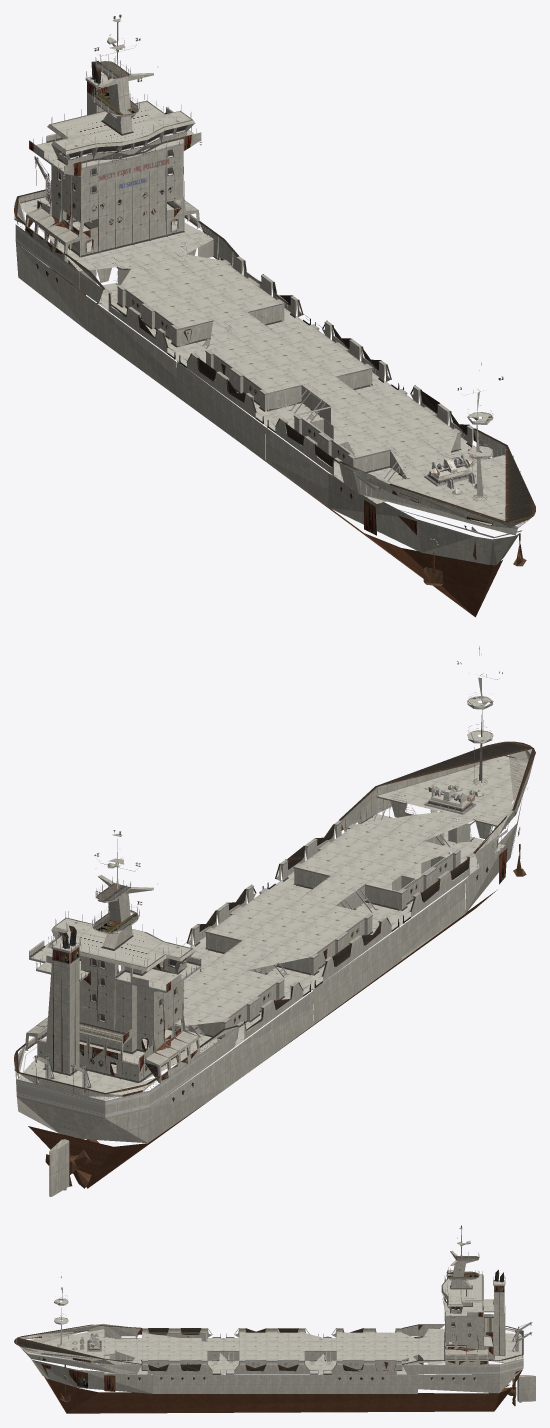
File: cargo_ship_map.glb
3 views of the same model, one above another, from view 1: azimuth 30°, elevation 25°; view 2: azimuth 150°, elevation 25°; view 3: azimuth 270°, elevation 25° (orthographic). The views are drawn at different scales.
Parts seen in each view (by area): view 1: cargo_ship_hull_LOD0, cargo_ship_deck_LOD0, cargo_ship_deck_railings_LOD0, cargo_ship_anchor_conveyor_LOD0; view 2: cargo_ship_hull_LOD0, cargo_ship_deck_LOD0, cargo_ship_deck_railings_LOD0, cargo_ship_anchor_conveyor_LOD0; view 3: cargo_ship_hull_LOD0, cargo_ship_deck_LOD0, cargo_ship_deck_railings_LOD0, cargo_ship_anchor_conveyor_LOD0.
Part boxes in pixels (bbox=[...]): cargo_ship_hull_LOD0: bbox=[14, 18, 535, 617]; cargo_ship_deck_LOD0: bbox=[20, 15, 505, 519]; cargo_ship_deck_railings_LOD0: bbox=[17, 14, 527, 527]; cargo_ship_anchor_conveyor_LOD0: bbox=[424, 455, 484, 494]; cargo_ship_hull_LOD0: bbox=[14, 646, 535, 1196]; cargo_ship_deck_LOD0: bbox=[17, 662, 513, 1100]; cargo_ship_deck_railings_LOD0: bbox=[17, 661, 516, 1101]; cargo_ship_anchor_conveyor_LOD0: bbox=[424, 785, 484, 814]; cargo_ship_hull_LOD0: bbox=[14, 1228, 535, 1413]; cargo_ship_deck_LOD0: bbox=[33, 1226, 523, 1374]; cargo_ship_deck_railings_LOD0: bbox=[23, 1225, 531, 1385]; cargo_ship_anchor_conveyor_LOD0: bbox=[71, 1333, 101, 1351].
Size of the model in its own units: 24.49 by 57.31 by 145.
Materials: 15 (14 with a texture image).
